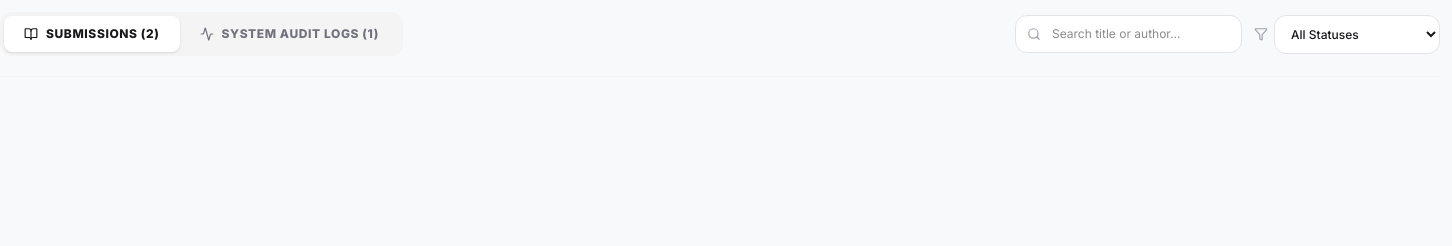
Scenario: SubmissionsModeration › switches to the Audit Logs tab and renders the timeline
The image size is (1452, 246).
Click the button "System Audit Logs (1)" at point(289, 34), box [180,16,399,52]
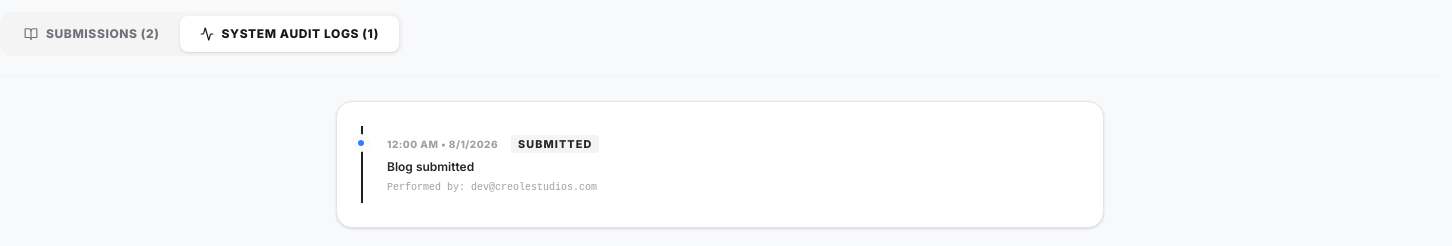
Expected: the text "Blog submitted" is shown, [387,159,474,174]
